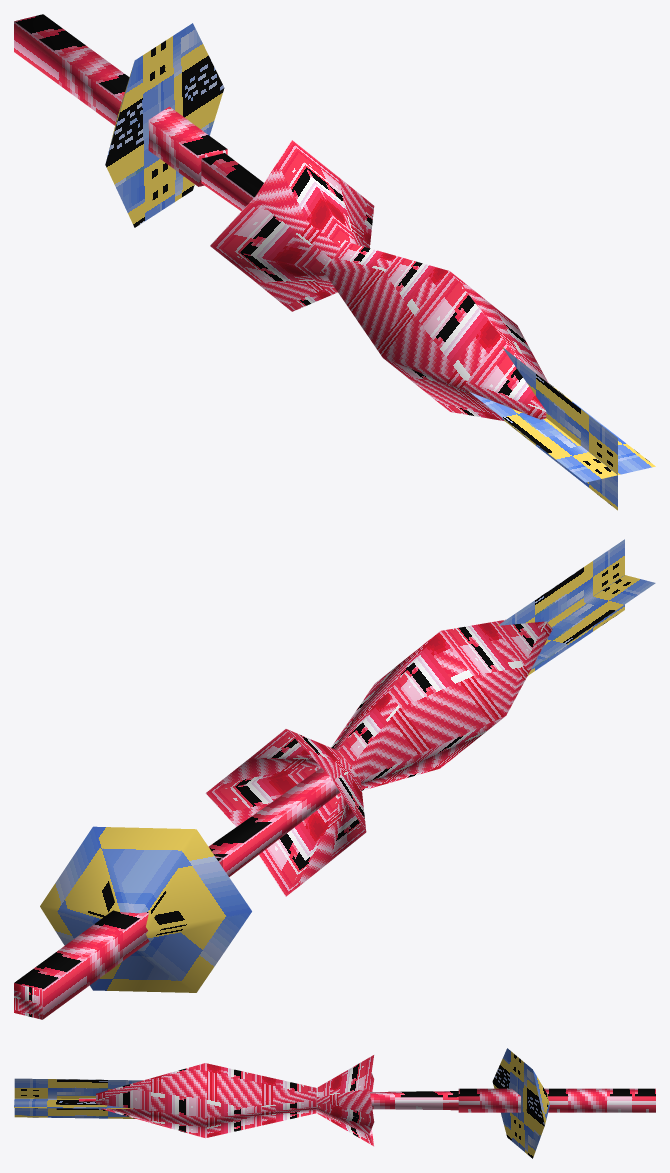
Rendered from 04_04_stick.gltf.
3 views of the same model, one above another, from view 1: azimuth 30°, elevation 25°; view 2: azimuth 150°, elevation 25°; view 3: azimuth 270°, elevation 25° (orthographic). The views are drawn at different scales.
Parts seen in each view (by area): view 1: 04_04_stick; view 2: 04_04_stick; view 3: 04_04_stick.
Boxes of the visible parts, x1,y1,x2,y2 form: 04_04_stick: [14, 14, 655, 510]; 04_04_stick: [14, 539, 655, 1019]; 04_04_stick: [14, 1048, 655, 1158].
Bounding box in the file's own units: 0.2385 × 0.2251 × 1.42.
2 materials, 2 textured.
